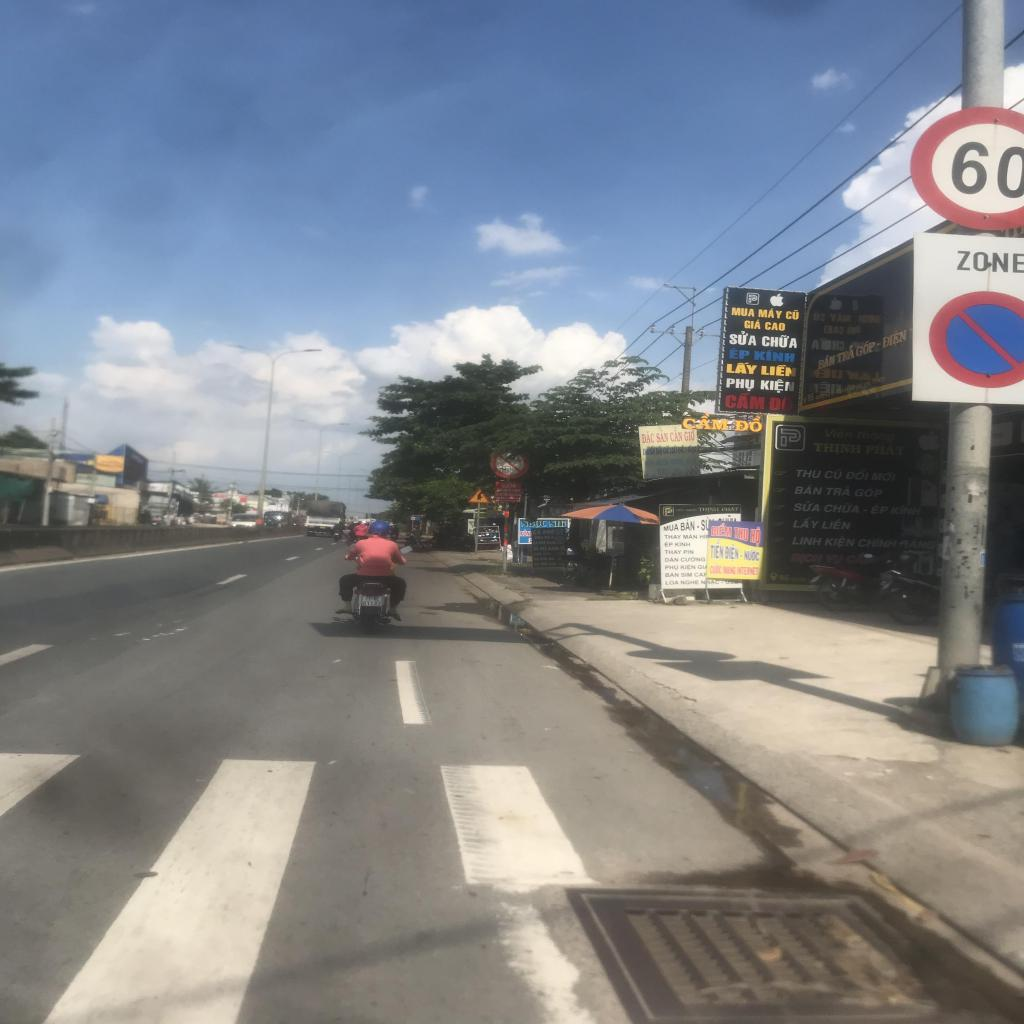cam_do_xe: (930, 292, 1022, 390)
cam_xe_2_banh_va_xe_3_banh_co_dong_co: (490, 451, 528, 479)
giao_nhau_voi_duong_khong_uu_tien: (468, 488, 490, 502)
toc_do_toi_da_60: (912, 106, 1023, 231)
